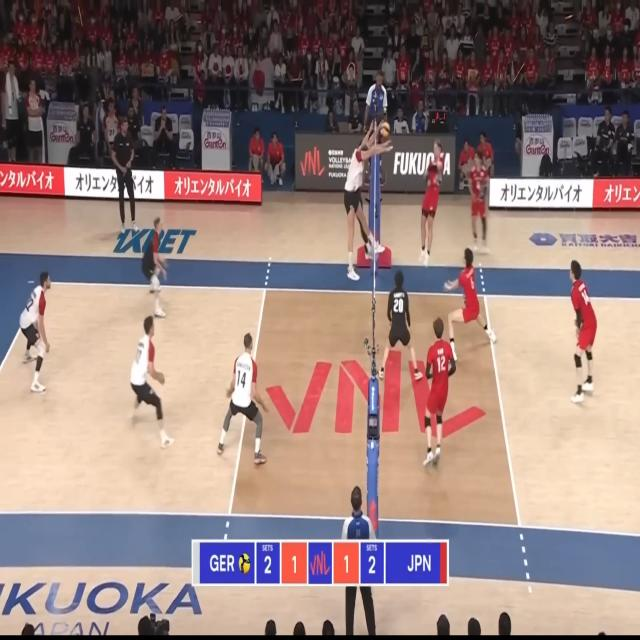ball: (381, 122, 390, 137)
